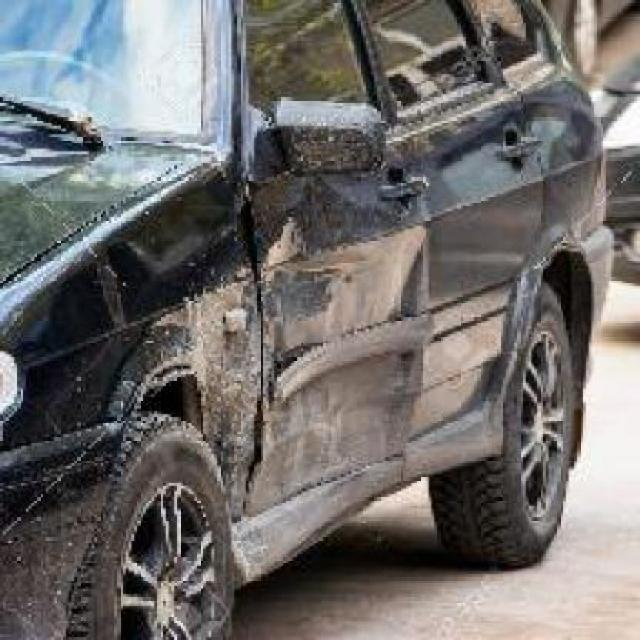damaged-door: (240, 0, 420, 505)
